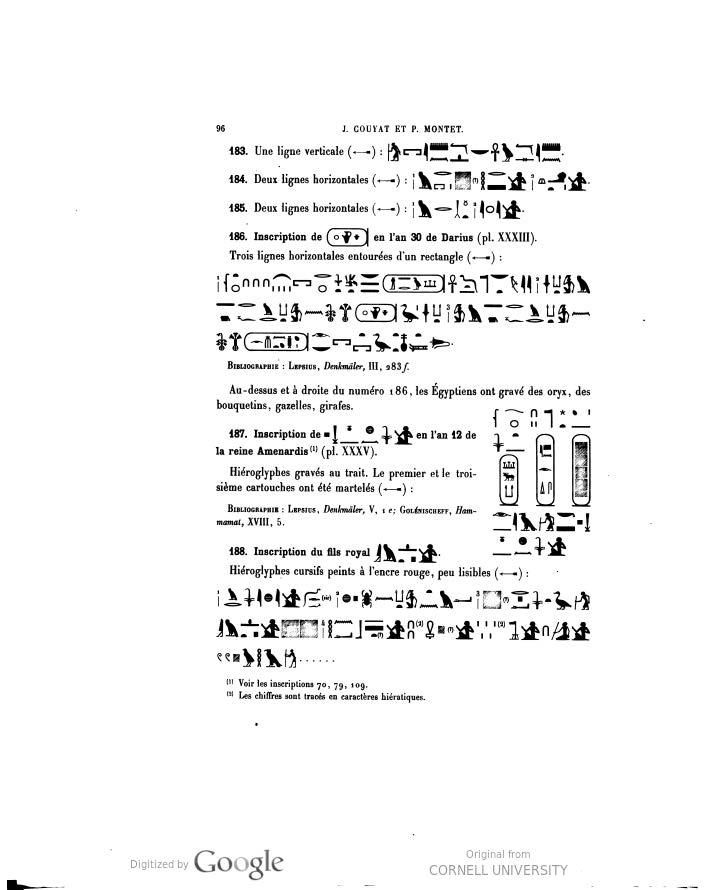circle: (565, 417, 601, 523), (529, 423, 561, 523), (491, 446, 526, 511), (348, 297, 409, 334), (382, 271, 456, 301), (242, 326, 316, 356), (322, 223, 381, 250)
